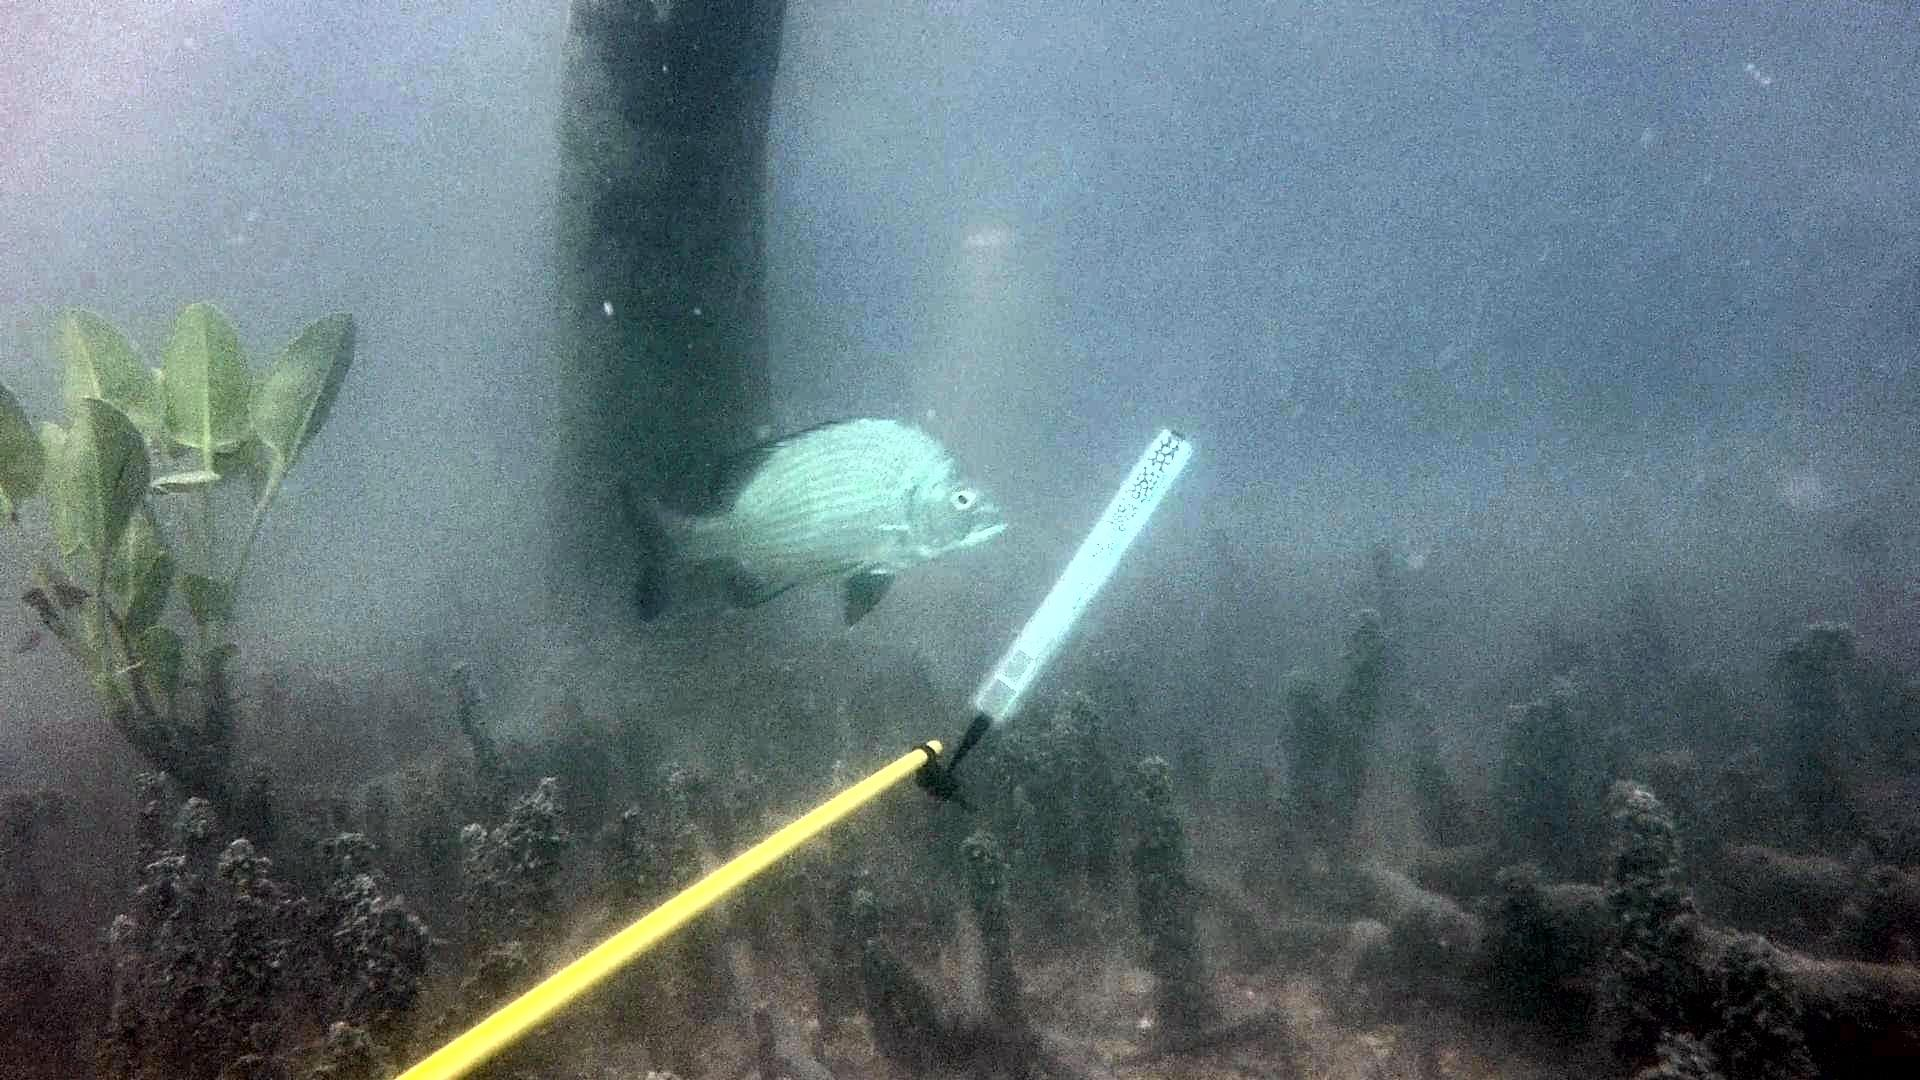acanthopagrus palmaris: (606, 398, 1021, 648)
